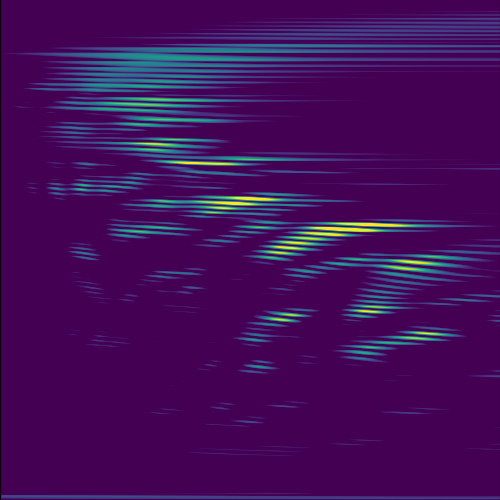semblance: (250, 218, 423, 262), (188, 188, 309, 219), (157, 150, 289, 177), (104, 128, 213, 160), (365, 249, 466, 283)
